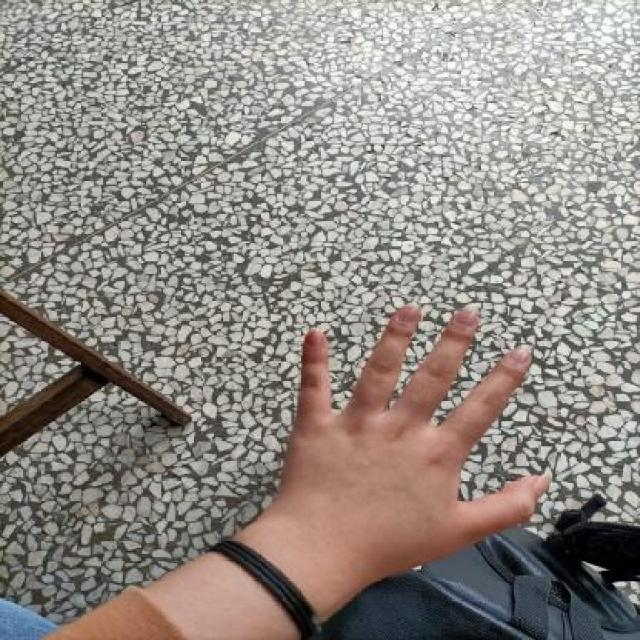bare_hand: (267, 293, 564, 587)
